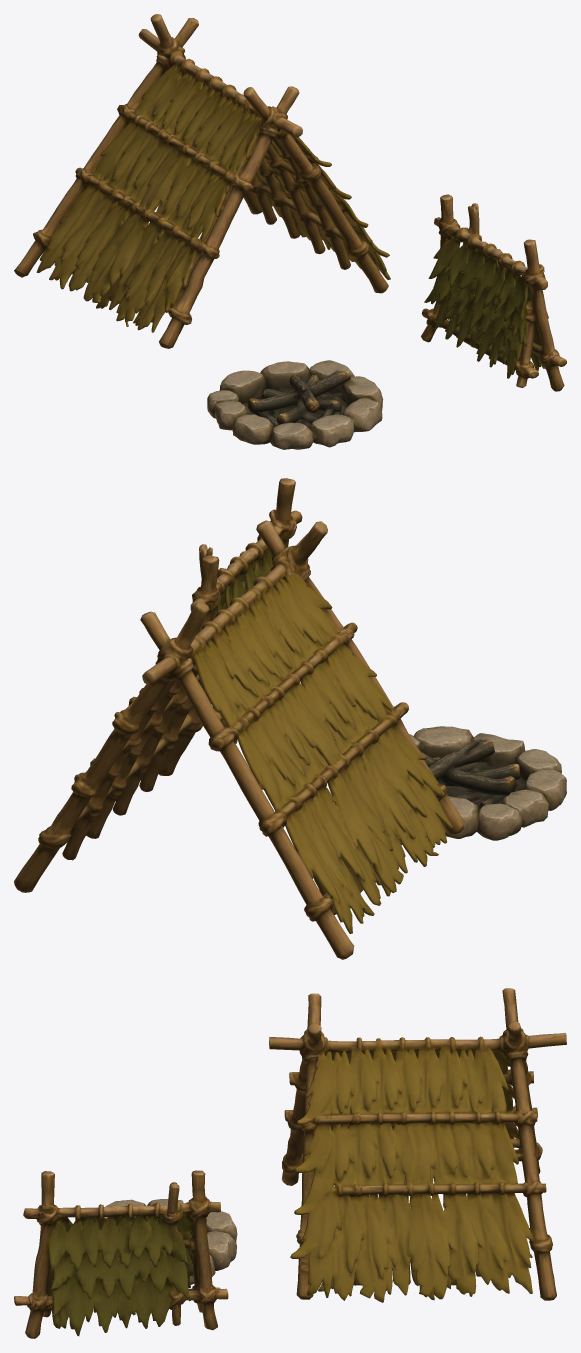
File: Band Camp (West African).fbx
3 renders of one model, top to bottom at view 1: azimuth 30°, elevation 25°; view 2: azimuth 150°, elevation 25°; view 3: azimuth 270°, elevation 25°, orthographic. The views are drawn at different scales.
Visible parts, largest first — view 1: tripo_part_0, tripo_part_1, tripo_part_2; view 2: tripo_part_0, tripo_part_2, tripo_part_1; view 3: tripo_part_0, tripo_part_1, tripo_part_2.
Part boxes in pixels (left/top/right/bottom): tripo_part_0: left=14, top=14, right=390, bottom=348; tripo_part_1: left=421, top=194, right=566, bottom=391; tripo_part_2: left=207, top=360, right=383, bottom=449; tripo_part_0: left=14, top=520, right=465, bottom=959; tripo_part_2: left=409, top=726, right=566, bottom=840; tripo_part_1: left=190, top=478, right=302, bottom=743; tripo_part_0: left=269, top=988, right=566, bottom=1302; tripo_part_1: left=14, top=1170, right=228, bottom=1338; tripo_part_2: left=74, top=1199, right=237, bottom=1284.
Size of the model in its own units: 0.6762 by 0.5614 by 1.
